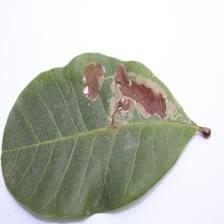leaf miner: (0, 51, 211, 218)
